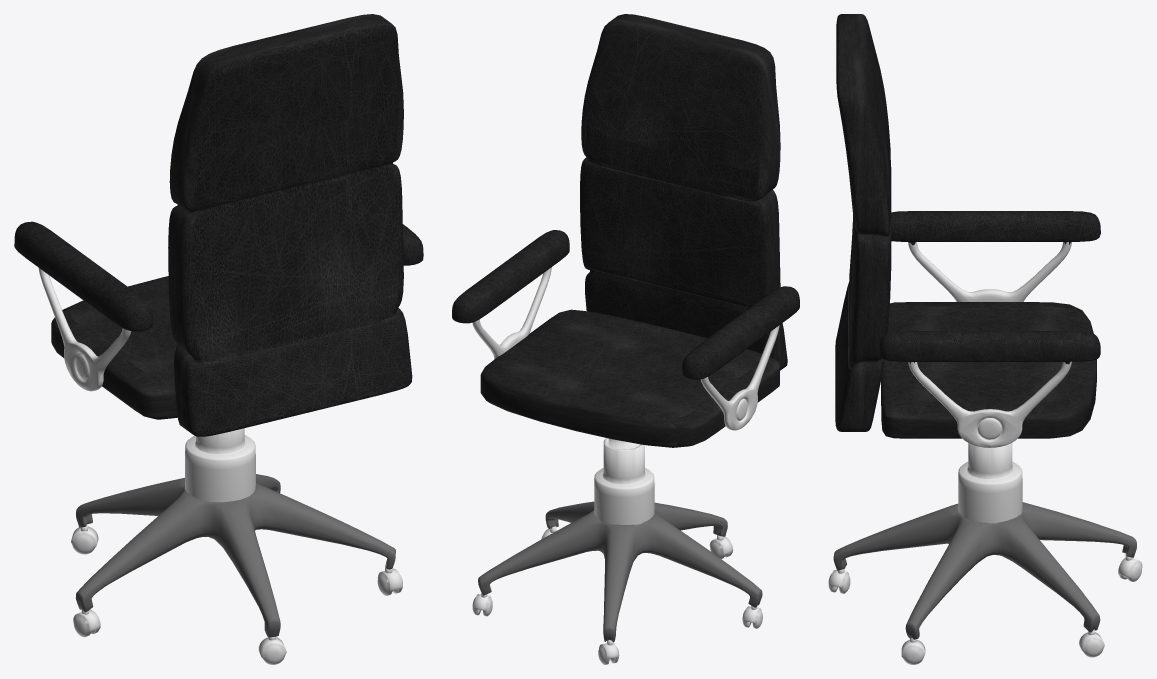
Rendered from SillaLowPoly.fbx.
The picture shows the model from 3 angles, left to right: view 1: azimuth 30°, elevation 25°; view 2: azimuth 150°, elevation 25°; view 3: azimuth 270°, elevation 25°; orthographic projection. The views are drawn at different scales.
Parts seen in each view (by area): view 1: ApoyabrazosDer; view 2: ApoyabrazosDer; view 3: ApoyabrazosDer.
Boxes of the visible parts, x1,y1,x2,y2 form: ApoyabrazosDer: [14, 14, 423, 664]; ApoyabrazosDer: [452, 14, 799, 664]; ApoyabrazosDer: [828, 14, 1142, 664].
Bounding box in the file's own units: 87.32 × 170 × 86.79.
3 materials, 1 textured.
